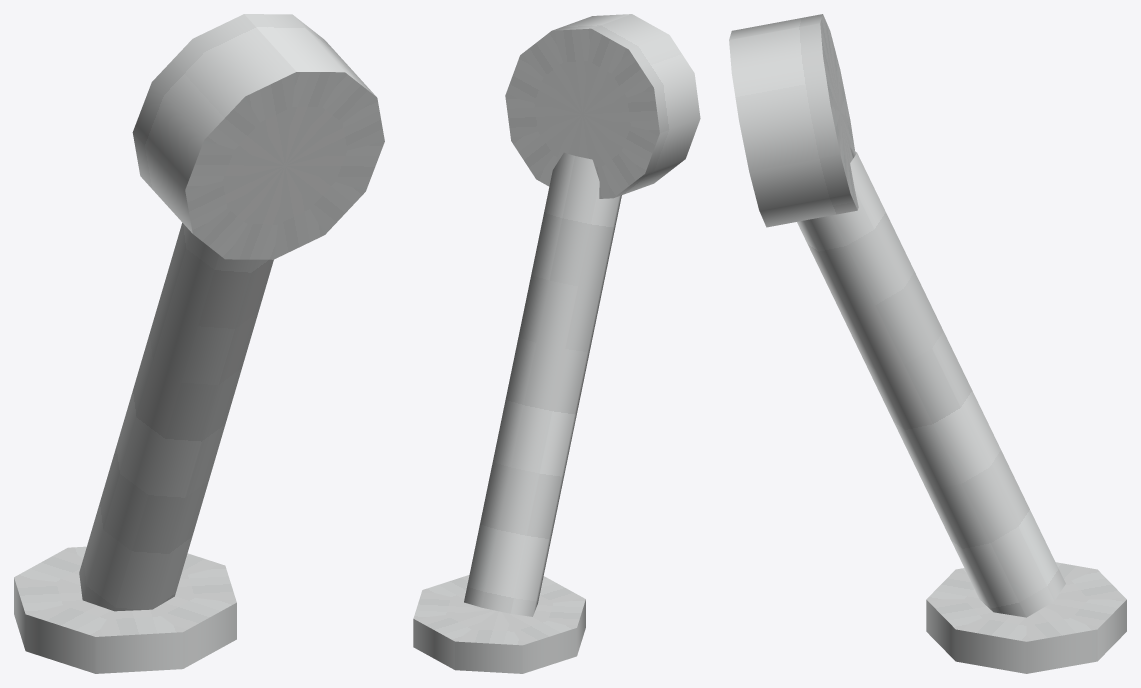
Rendered from trusssignalarm_stub_6.obj.
The picture shows the model from 3 angles, left to right: view 1: azimuth 30°, elevation 25°; view 2: azimuth 150°, elevation 25°; view 3: azimuth 270°, elevation 25°; orthographic projection. The views are drawn at different scales.
Visible parts, largest first — view 1: trusssignalarm_stub_6; view 2: trusssignalarm_stub_6; view 3: trusssignalarm_stub_6.
Boxes of the visible parts, <box> form: trusssignalarm_stub_6: <box>14,14,384,673</box>; trusssignalarm_stub_6: <box>413,14,700,673</box>; trusssignalarm_stub_6: <box>729,14,1126,673</box>.
Bounding box in the file's own units: 0.35 × 1.17 × 0.6942.
